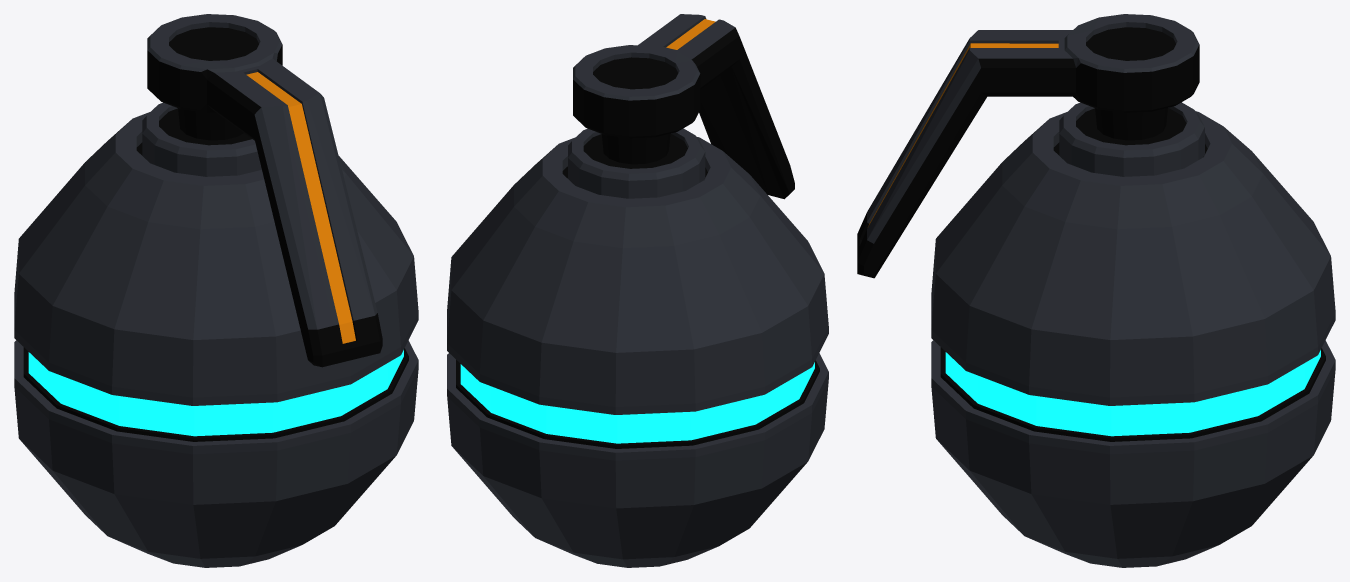
Rendered from SM_Grenade.fbx.
3 renders of one model, left to right at view 1: azimuth 30°, elevation 25°; view 2: azimuth 150°, elevation 25°; view 3: azimuth 270°, elevation 25°, orthographic. The views are drawn at different scales.
Parts seen in each view (by area): view 1: SM_Grenade; view 2: SM_Grenade; view 3: SM_Grenade.
Boxes of the visible parts, <box> form: SM_Grenade: <box>14,14,418,567</box>; SM_Grenade: <box>447,14,828,567</box>; SM_Grenade: <box>857,14,1335,567</box>.
Size of the model in its own units: 9.72 by 12.98 by 11.44.
